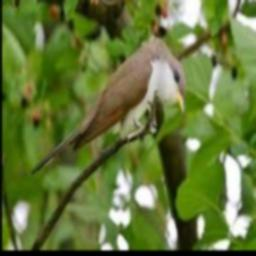Cuckoo: (31, 36, 185, 175)
